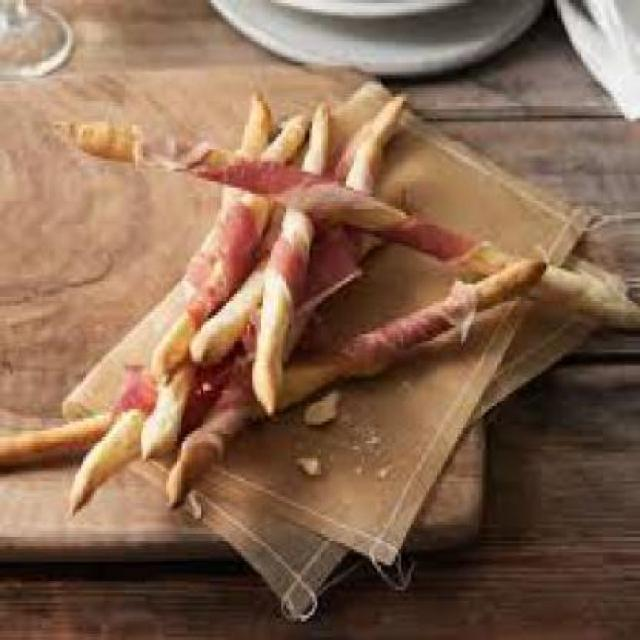Grissini: (46, 78, 588, 506)
